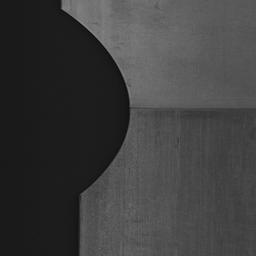Crescent gap: (62, 10, 130, 201)
